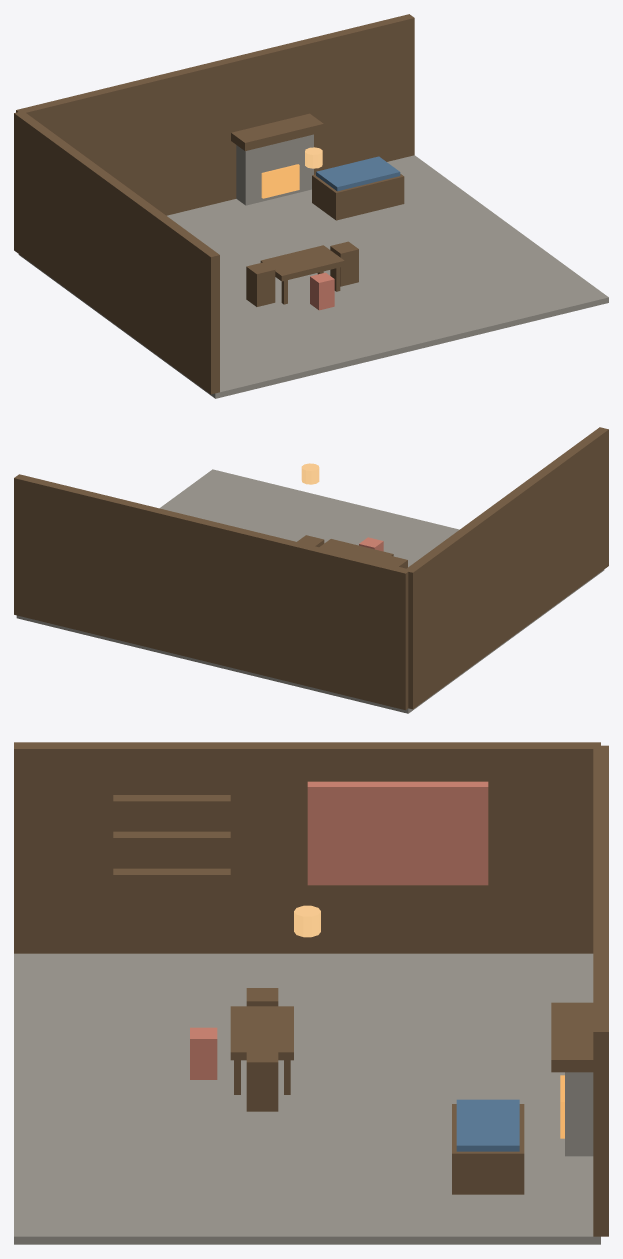
3 views of the same model, one above another, from view 1: azimuth 30°, elevation 25°; view 2: azimuth 150°, elevation 25°; view 3: azimuth 270°, elevation 25° (orthographic). The views are drawn at different scales.
Visible parts, largest first — view 1: walk_floor.002, wall_back.002, wall_left.002, hearth.002, bed.002, mantel.002, table_top.002, quilt.002, chair.004, fire_glow.002, chair.005, stool.002; view 2: wall_back.002, wall_left.002, walk_floor.002, table_top.002; view 3: walk_floor.002, wall_left.002, wall_map, wall_back.002, bed.002, quilt.002, table_top.002, mantel.002, hearth.002, chair.005, shelf.007, shelf.006 (+3 smaller).
Part boxes in pixels (box(x1,y1,x2,y2)): walk_floor.002: box(18, 155, 608, 398); wall_back.002: box(16, 14, 414, 215); wall_left.002: box(14, 112, 219, 394); hearth.002: box(236, 134, 313, 205); bed.002: box(312, 174, 404, 220); mantel.002: box(231, 113, 323, 151); table_top.002: box(260, 245, 344, 281); quilt.002: box(316, 156, 400, 191); chair.004: box(246, 262, 275, 306); fire_glow.002: box(261, 164, 299, 198); chair.005: box(330, 241, 358, 286); stool.002: box(310, 272, 334, 310); wall_back.002: box(14, 474, 410, 710); wall_left.002: box(405, 427, 608, 709); walk_floor.002: box(16, 469, 604, 713); table_top.002: box(319, 539, 393, 562); walk_floor.002: box(14, 953, 600, 1244); wall_left.002: box(14, 742, 600, 953); wall_map: box(307, 781, 488, 885); wall_back.002: box(593, 745, 608, 1236); bed.002: box(452, 1104, 524, 1194); quilt.002: box(456, 1099, 519, 1151); table_top.002: box(230, 1006, 293, 1060); mantel.002: box(551, 1002, 593, 1072); hearth.002: box(565, 1072, 593, 1156); chair.005: box(246, 1049, 278, 1111); shelf.007: box(113, 831, 230, 844); shelf.006: box(113, 868, 230, 880).
Bounding box in the file's own units: 15.17 × 5.2 × 13.17.
